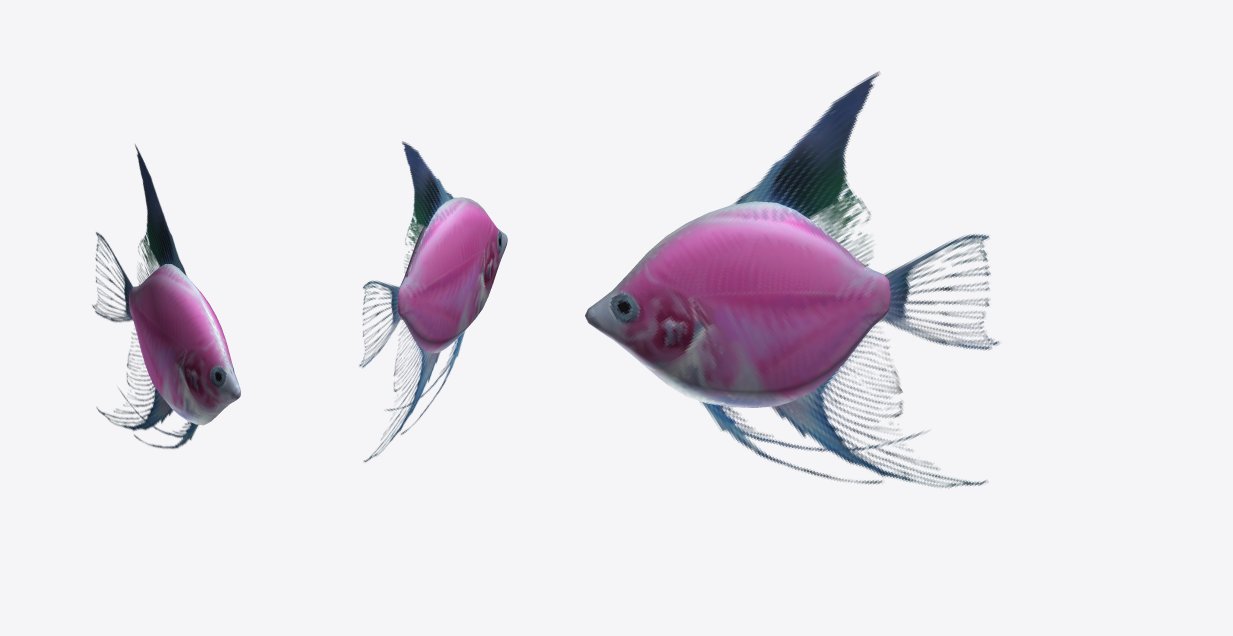
File: pinkfish.glb
3 views of the same model, side by side, from view 1: azimuth 30°, elevation 25°; view 2: azimuth 150°, elevation 25°; view 3: azimuth 270°, elevation 25° (orthographic). The views are drawn at different scales.
Parts seen in each view (by area): view 1: Cube, Plane; view 2: Cube, Plane; view 3: Cube, Plane.
Boxes of the visible parts, box(x1,y1,x2,y2) form: Cube: box(129, 264, 240, 425); Plane: box(92, 144, 198, 448); Cube: box(398, 197, 507, 353); Plane: box(359, 141, 465, 462); Cube: box(585, 201, 890, 407); Plane: box(699, 71, 999, 487).
Bounding box in the file's own units: 0.2665 × 2.85 × 2.85.
1 material, 1 textured.
